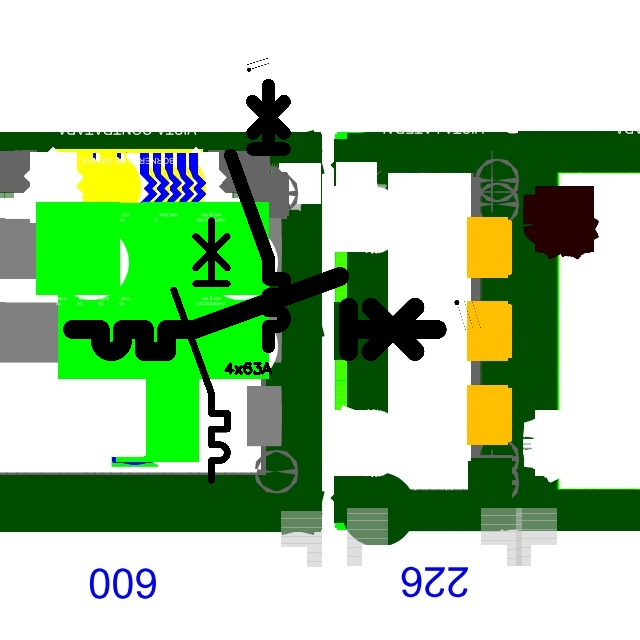interruptor_termomagnetico: (63, 267, 447, 361), (224, 78, 291, 352), (167, 214, 234, 487)
